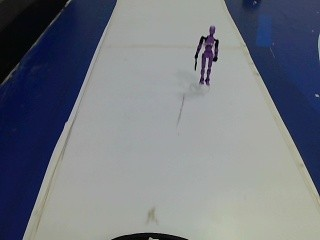pedestrian: (189, 20, 225, 91)
